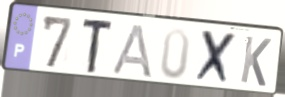0: (158, 26, 193, 81)
7: (41, 14, 75, 70)
A: (110, 22, 154, 80)
K: (238, 34, 273, 89)
T: (80, 19, 116, 76)
X: (192, 28, 239, 88)
